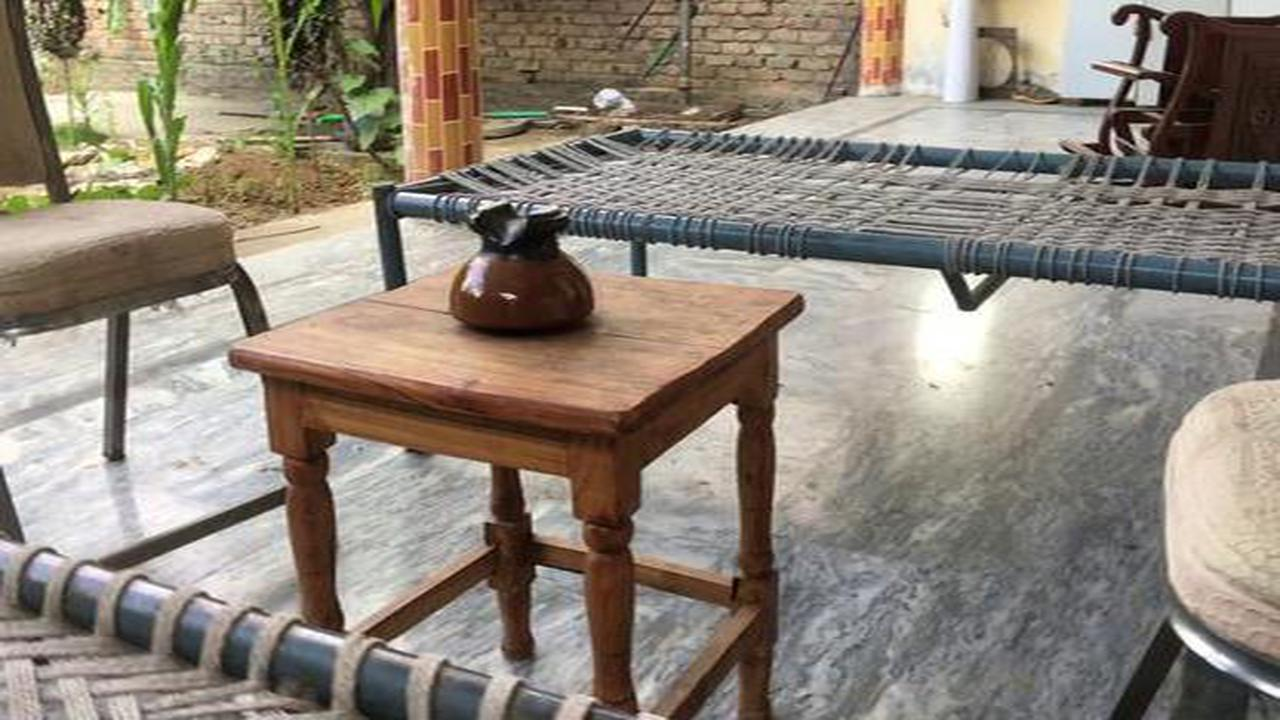insulator_pin: (428, 187, 613, 347)
